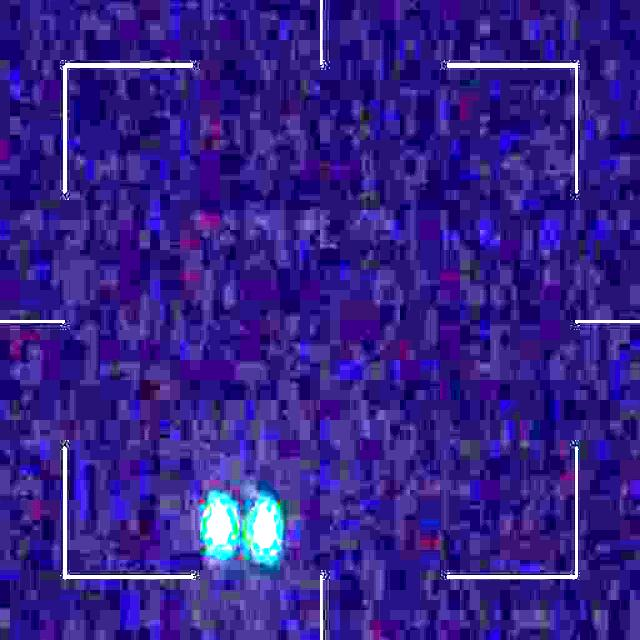bird: (205, 504, 276, 551)
